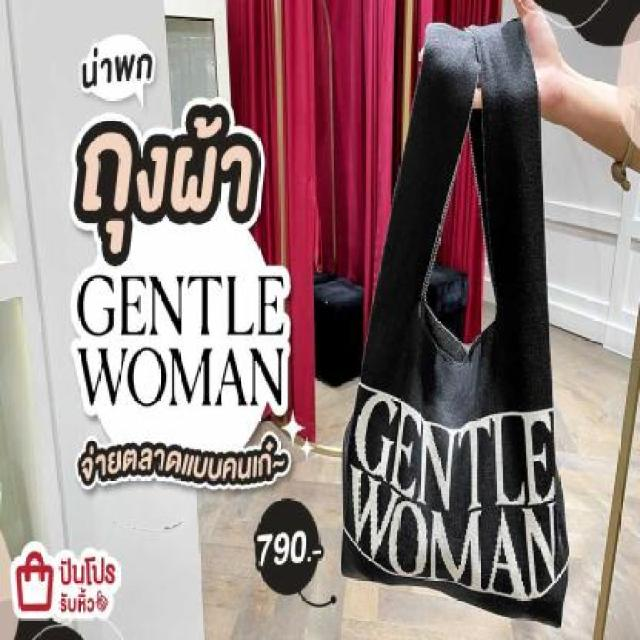Bag: (340, 0, 578, 640)
